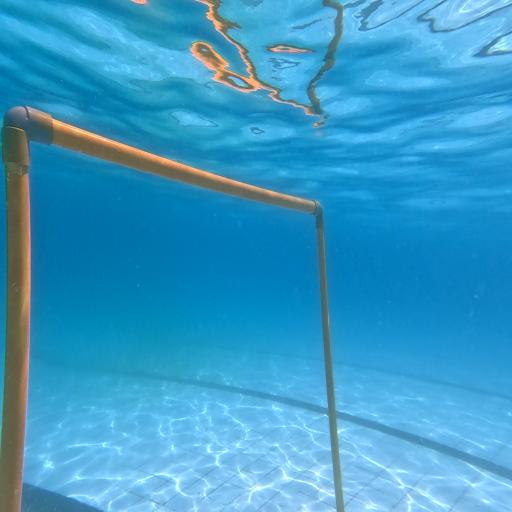gate: (2, 106, 344, 512)
